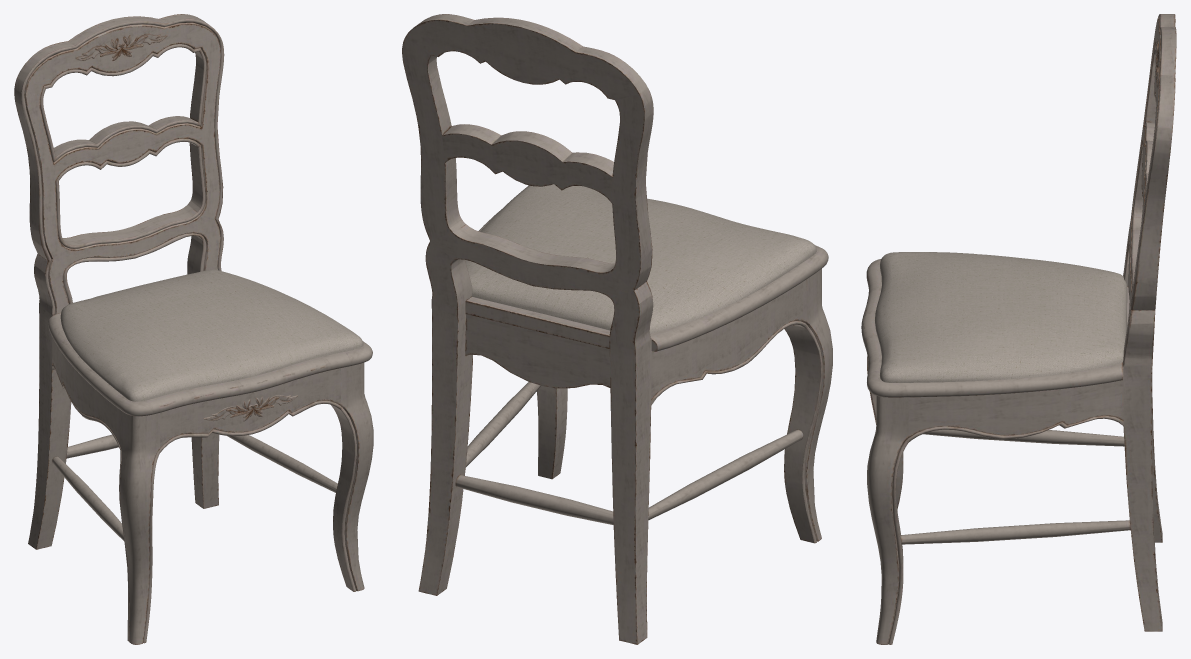
File: example76.glb
The picture shows the model from 3 angles, left to right: view 1: azimuth 30°, elevation 25°; view 2: azimuth 150°, elevation 25°; view 3: azimuth 270°, elevation 25°; orthographic projection. The views are drawn at different scales.
Visible parts, largest first — view 1: Buffer Layer (×2); view 2: Buffer Layer (×2); view 3: Buffer Layer (×2).
Boxes of the visible parts, x1,y1,x2,y2 form: Buffer Layer (×2): [14, 14, 373, 644]; Buffer Layer (×2): [402, 14, 832, 644]; Buffer Layer (×2): [861, 14, 1176, 644].
Size of the model in its own units: 0.52 by 0.9932 by 0.5221.
2 materials, 2 textured.
